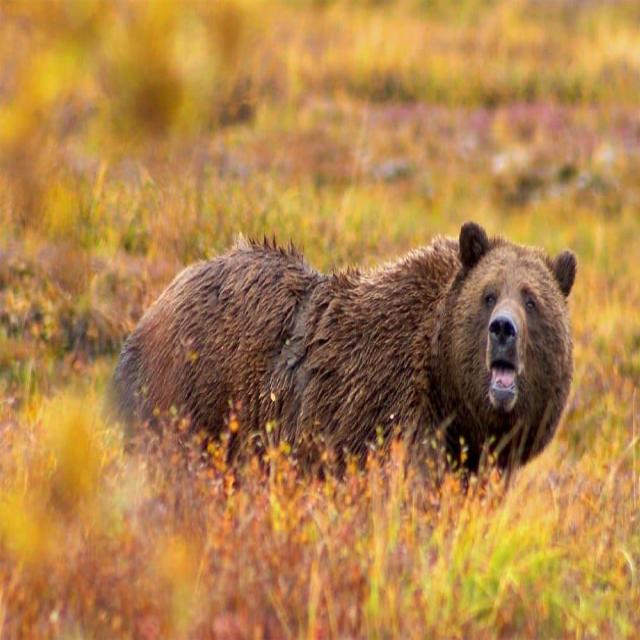Bear: (109, 223, 577, 504)
